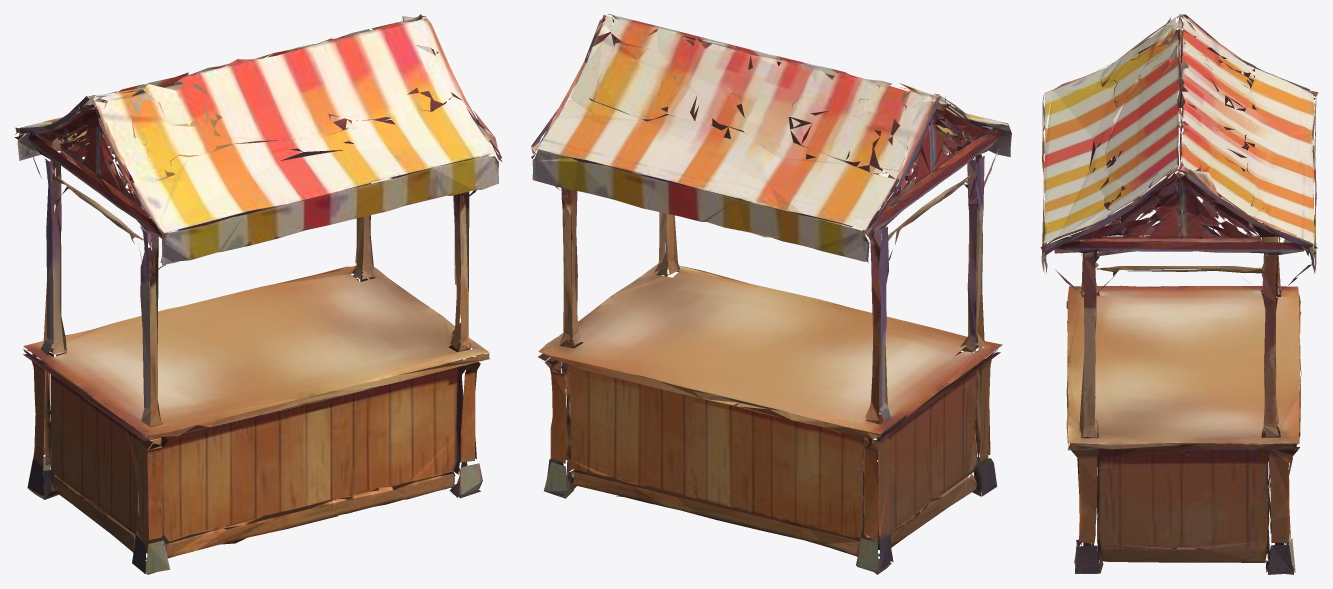
File: market_stall.glb
3 renders of one model, left to right at view 1: azimuth 30°, elevation 25°; view 2: azimuth 150°, elevation 25°; view 3: azimuth 270°, elevation 25°, orthographic. The views are drawn at different scales.
Parts seen in each view (by area): view 1: world; view 2: world; view 3: world.
Part boxes in pixels (x1=…): world: x1=14, y1=14, x2=502, y2=574; world: x1=531, y1=14, x2=1011, y2=574; world: x1=1040, y1=14, x2=1318, y2=574.
Bounding box in the file's own units: 1.68 × 1.99 × 1.23.
1 material, 1 textured.
